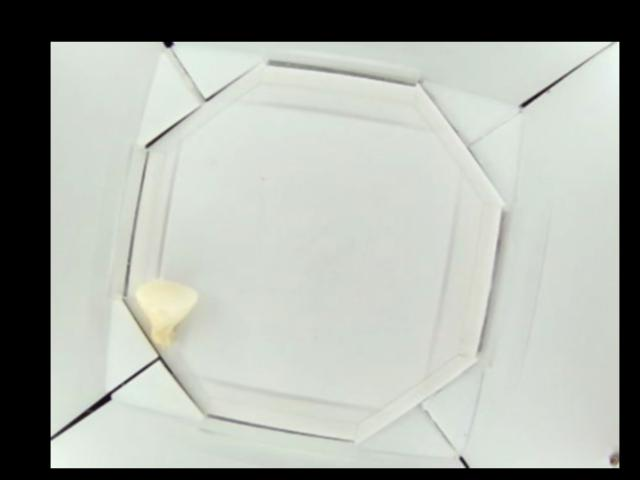Mooli: (135, 275, 199, 348)
